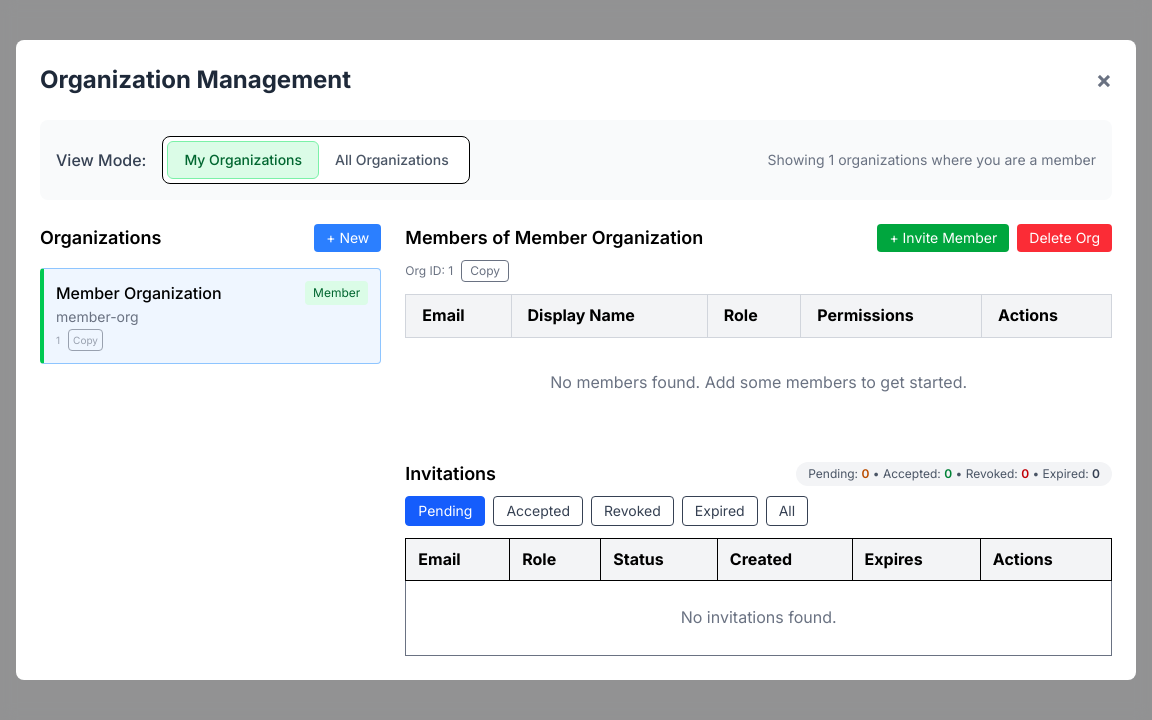
Scenario: OrganizationManagement › View Mode Toggle › shows confirmation dialog when switching to all organizations
Expected: the heading "Organization Management" is shown, [40,64,351,96]
Click "All Organizations" button
Click the button "All Organizations".
click(392, 160)  # box [319,141,465,179]
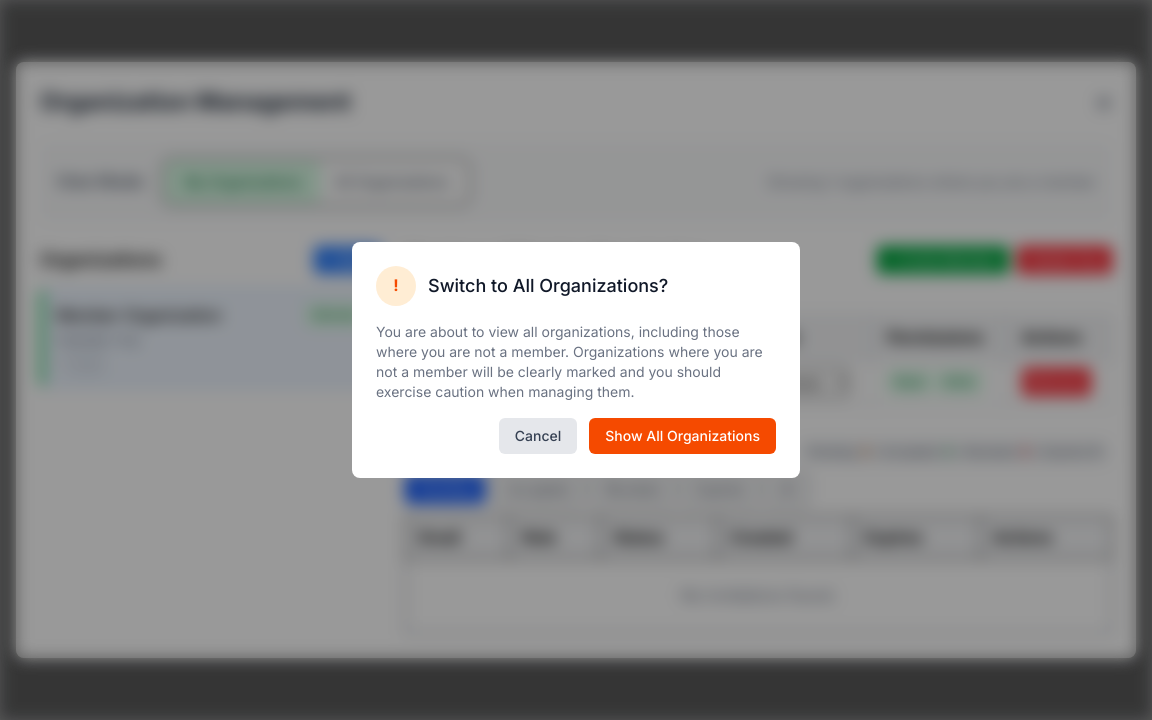
Expected: the heading "Switch to All Organizations?" is shown, [428,272,668,300]
Expected: the text "You are about to view all organizations" is shown, [376,323,763,400]
